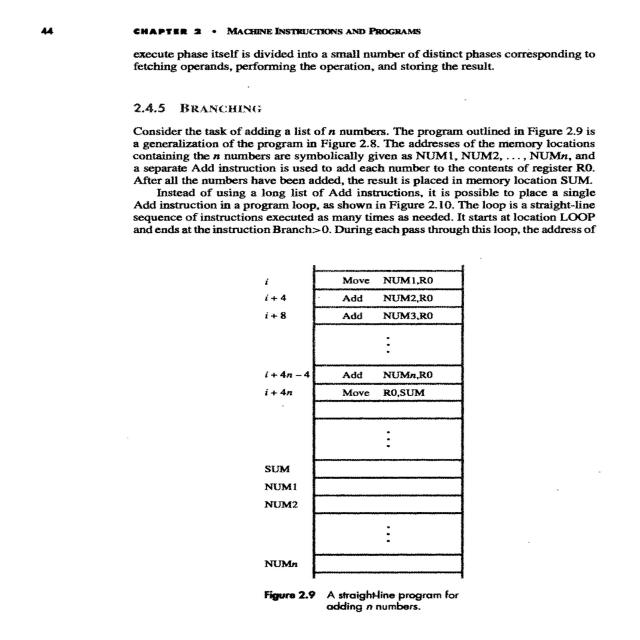diagram: (117, 249, 640, 640)
